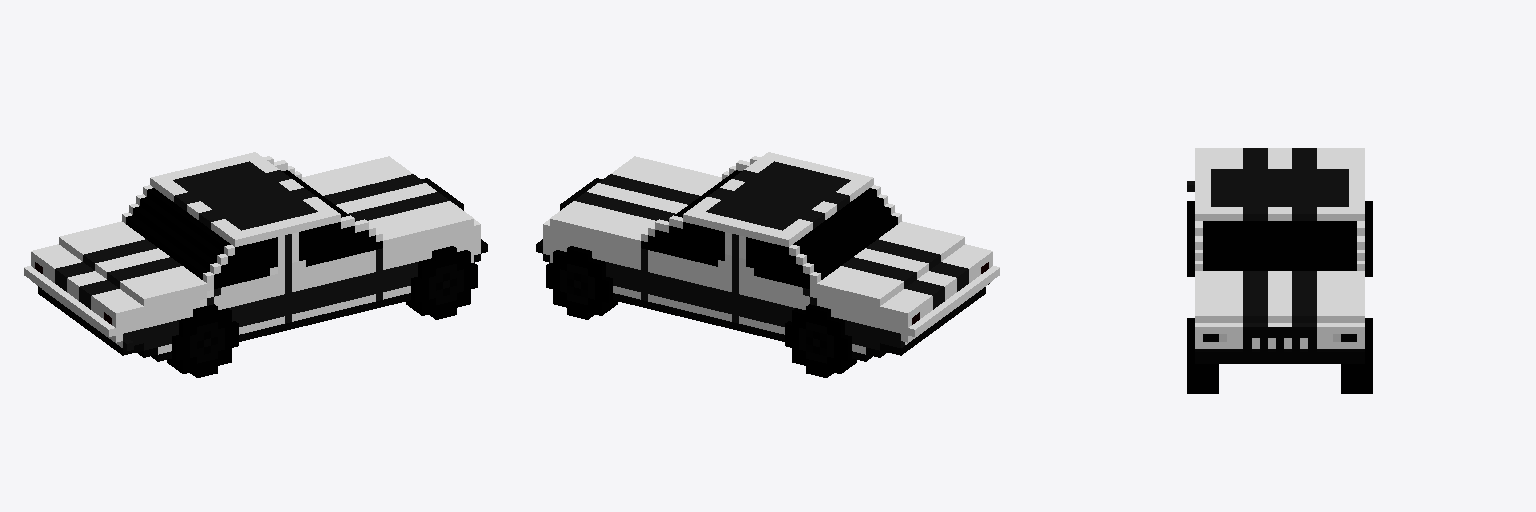
3 renders of one model, left to right at view 1: azimuth 30°, elevation 25°; view 2: azimuth 150°, elevation 25°; view 3: azimuth 270°, elevation 25°, orthographic.
Visible parts, largest first — view 1: object 1; view 2: object 1; view 3: object 1.
Part boxes in pixels (x1,y1,x2,y2): object 1: (24, 152, 487, 377); object 1: (536, 152, 999, 377); object 1: (1187, 148, 1372, 393).
Bounding box in the file's own units: 5.4 × 1.7 × 2.3.
Materials: 1 (1 with a texture image).